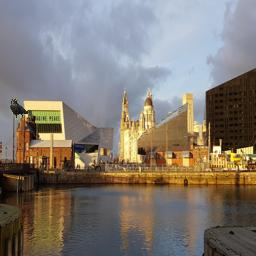Crow: (10, 98, 29, 122)
